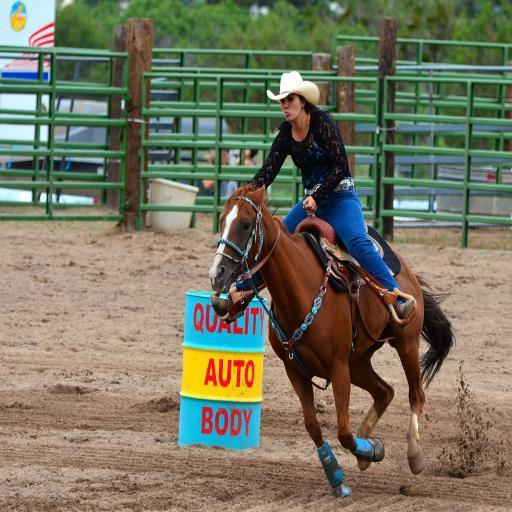horse: (210, 180, 456, 498)
